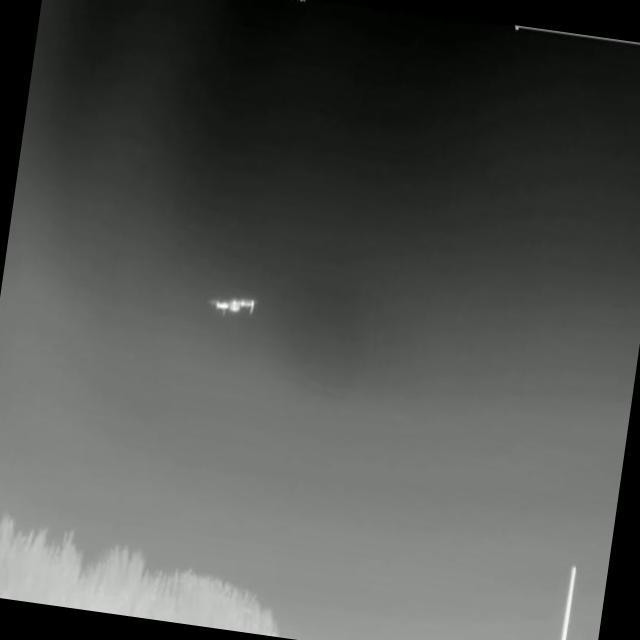DRONE: (198, 278, 268, 330)
